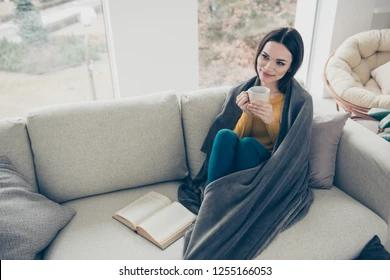blanket: (181, 72, 316, 261)
long sleeve shirt: (232, 93, 288, 153)
trousers: (205, 128, 270, 190)
